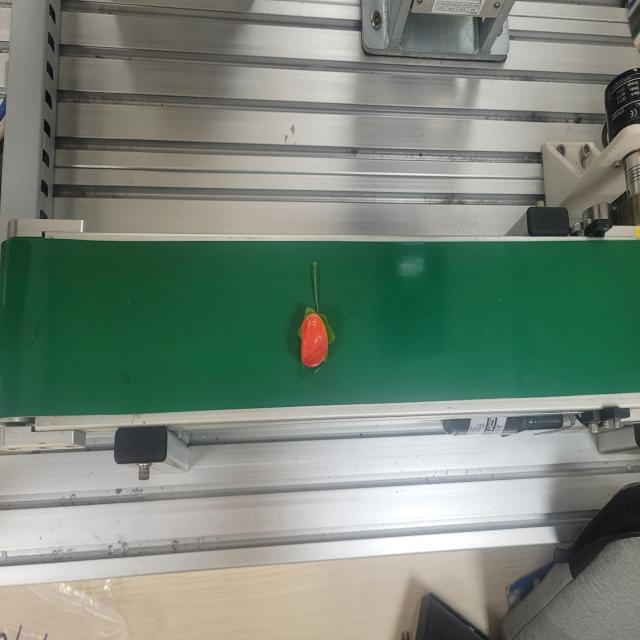Small Ripe Strawberry: (295, 257, 337, 375)
